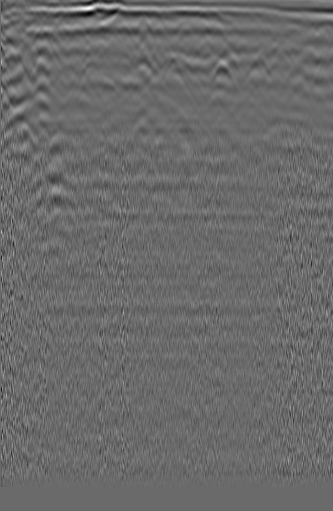가스: (96, 185, 136, 214)
상수: (12, 34, 42, 65)
오수: (292, 26, 324, 60)
우수: (134, 15, 171, 53)
